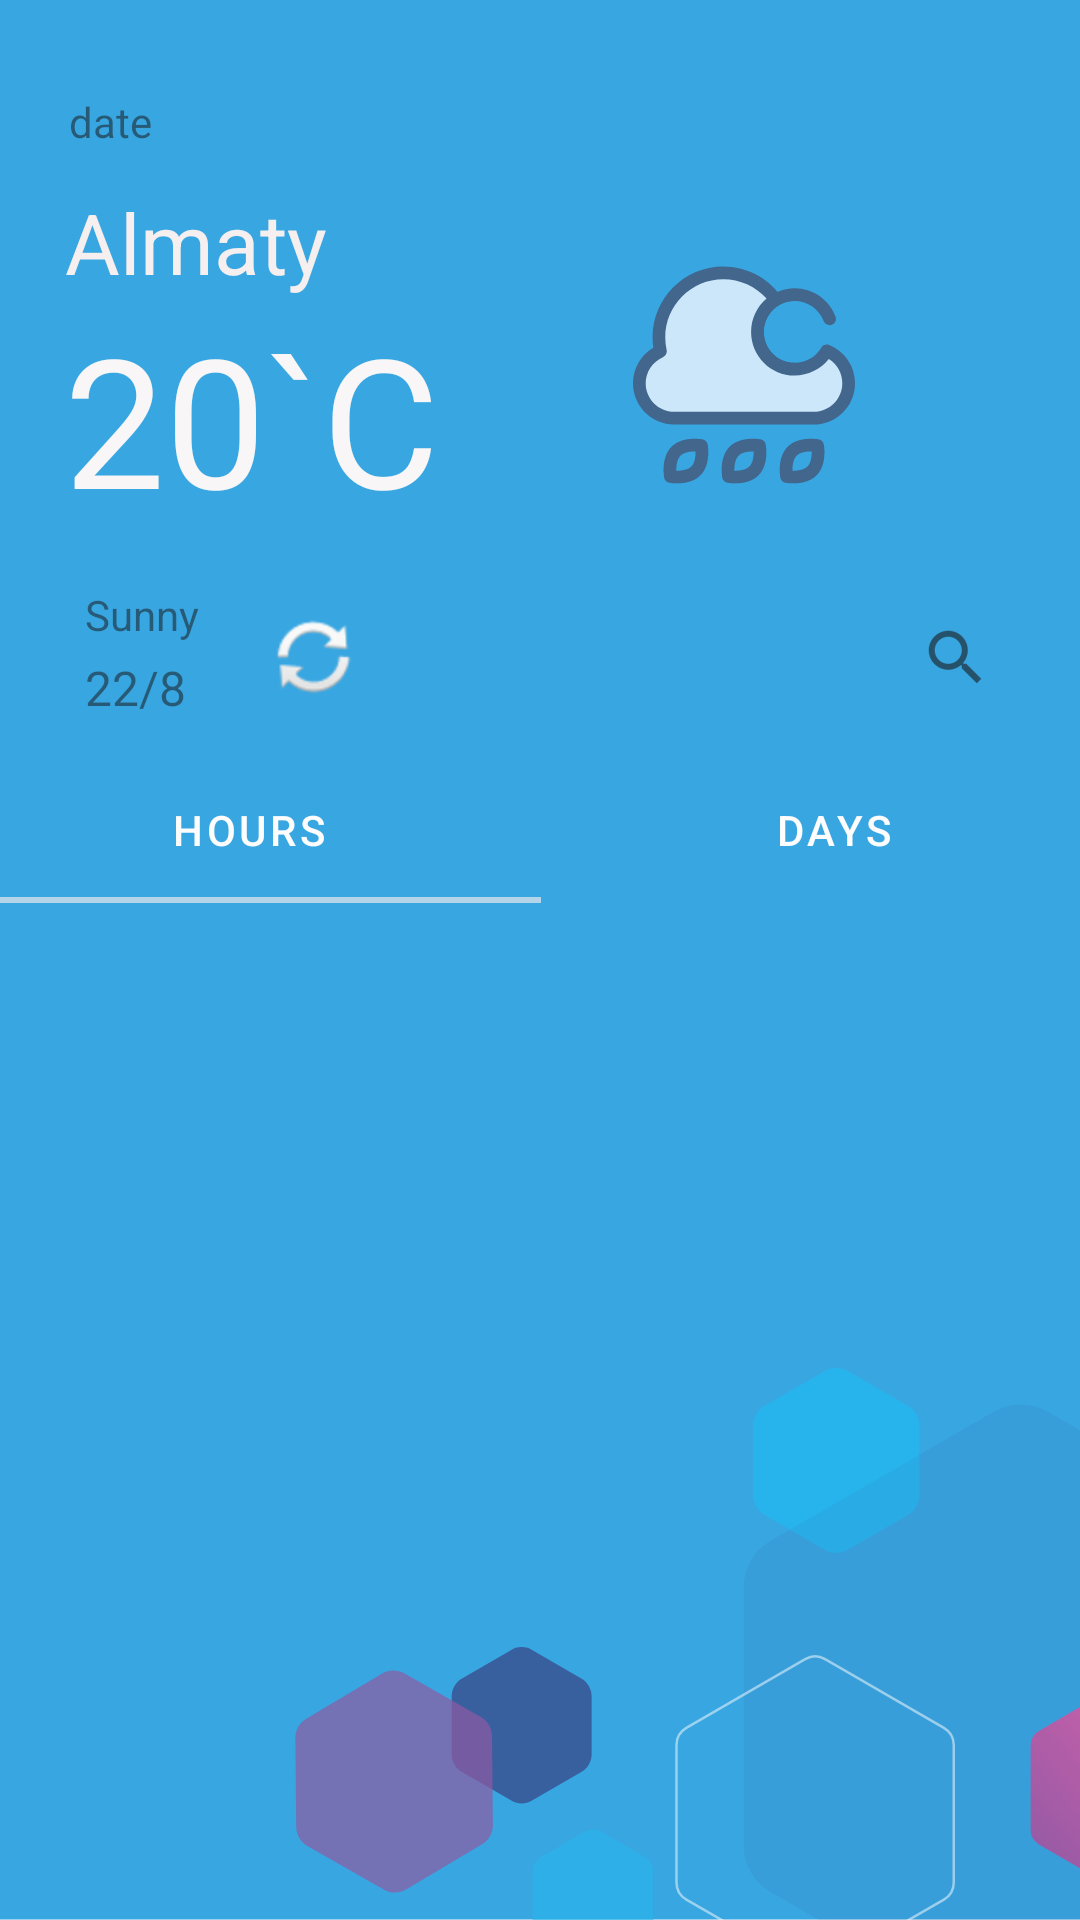

Icon bounding boxes for this 1080x1920 phone screenshot, format rect(x1, y1, x2, y2):
popup sync: rect(277, 621, 350, 693)
rain weather: rect(633, 266, 855, 484)
